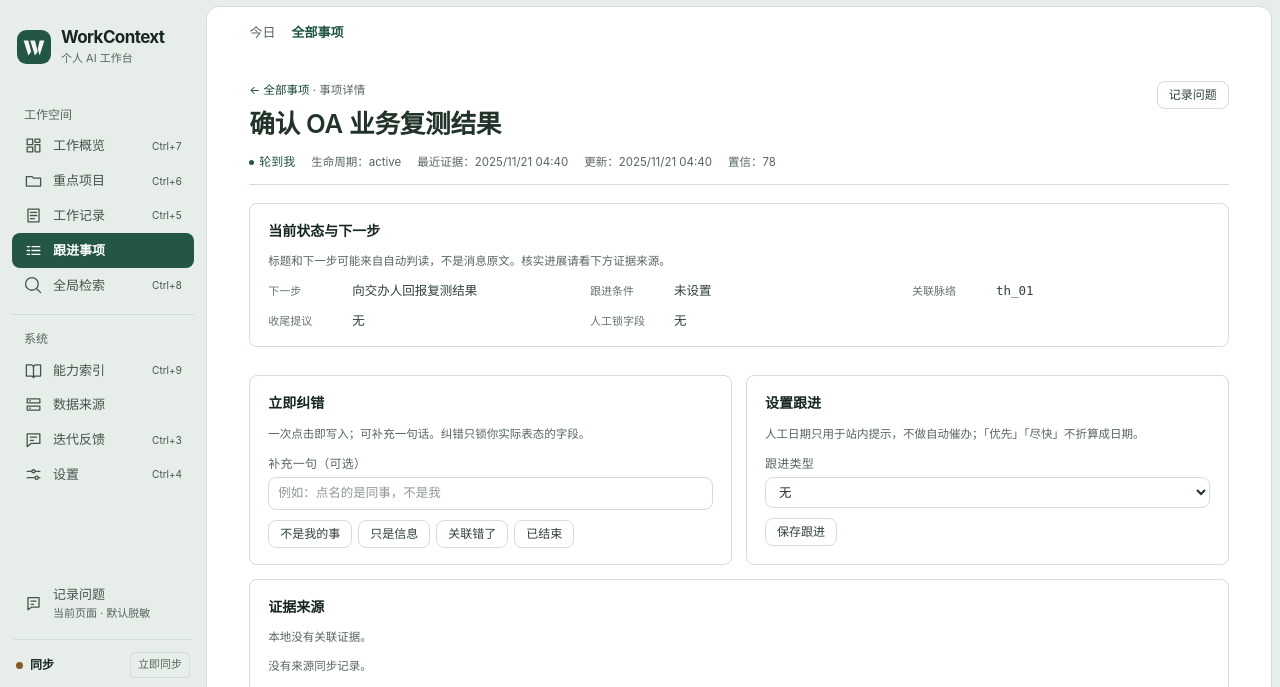
it: 事项详情 / 纠错 / 收尾 / 跟进 › 人工跟进日期转成 UTC 毫秒；事件类型缺说明时不发请求
Check: the heading "确认 OA 业务复测结果" is shown, box left=249, top=106, right=501, bottom=141
Select "人工时间" in the dropdown labelled "跟进类型". click: (987, 492)
box: left=765, top=477, right=1210, bottom=508
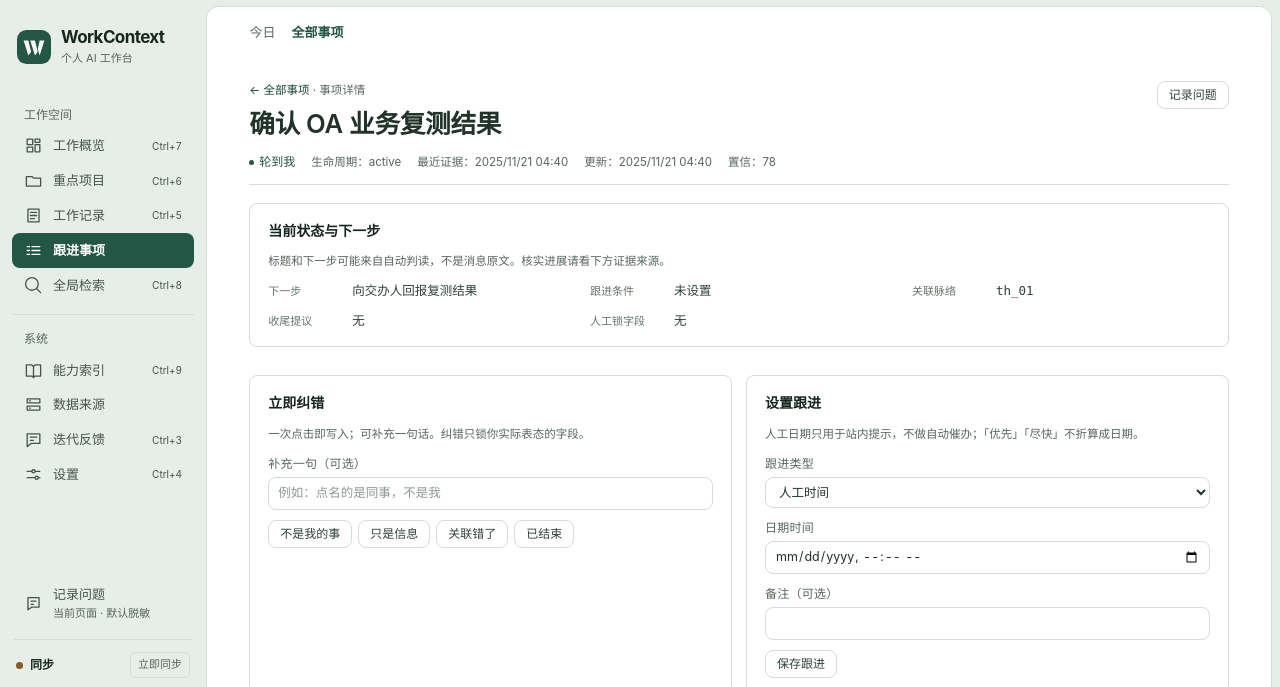
Type "2026-11-25T09:30" into the field labelled "日期时间". click: (987, 558)
box: left=765, top=541, right=1210, bottom=574
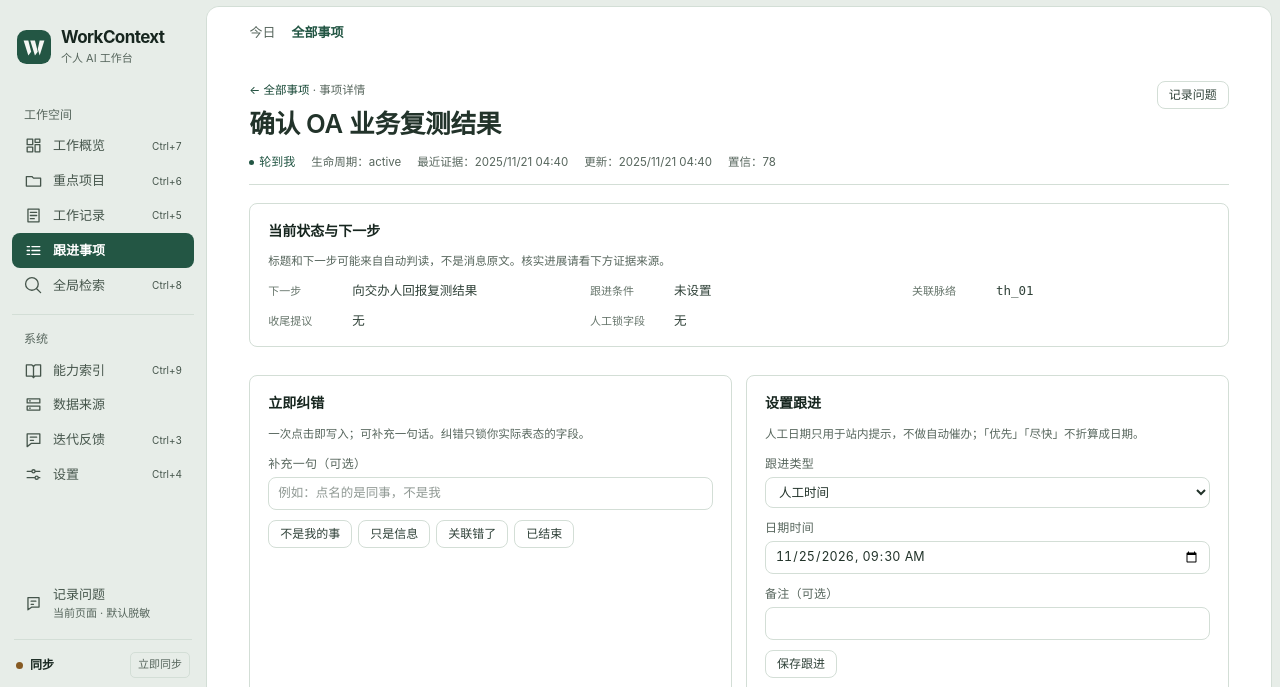
Click the button "保存跟进". click: (801, 664)
box: left=765, top=650, right=837, bottom=678
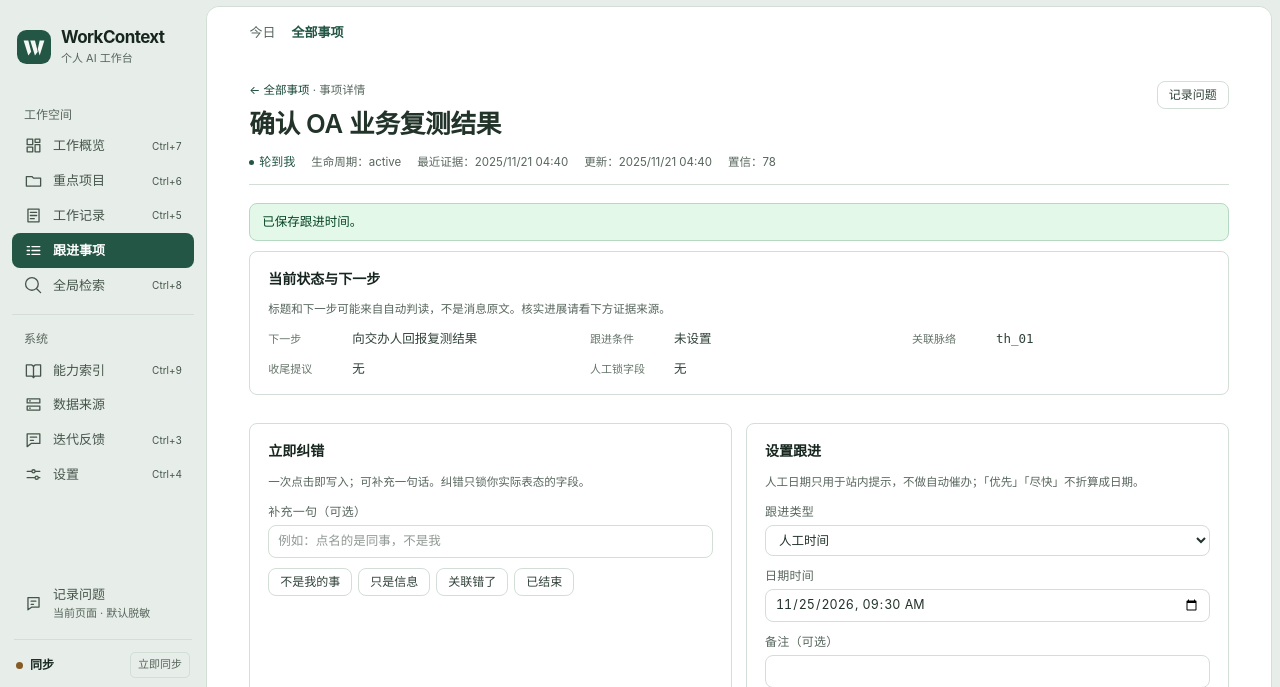
Select "等事件" in the dropdown labelled "跟进类型". click: (987, 540)
box: left=765, top=525, right=1210, bottom=556
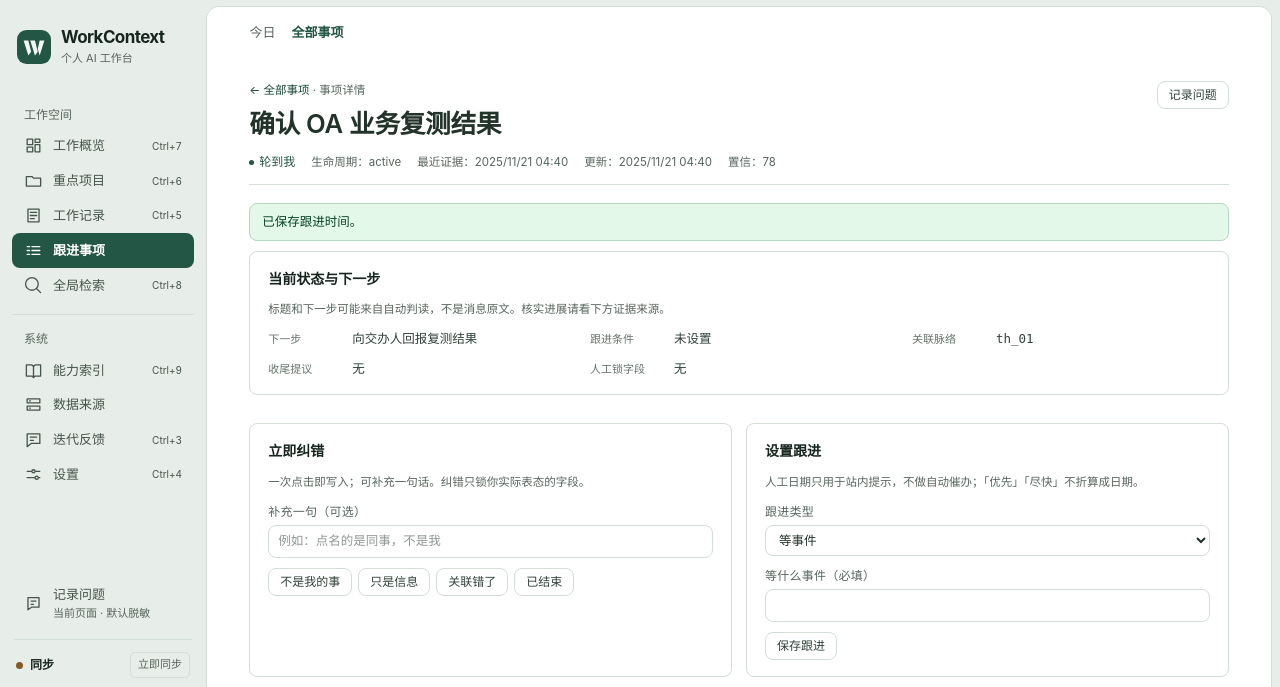
Click the button "保存跟进". click: (801, 646)
box: left=765, top=632, right=837, bottom=660
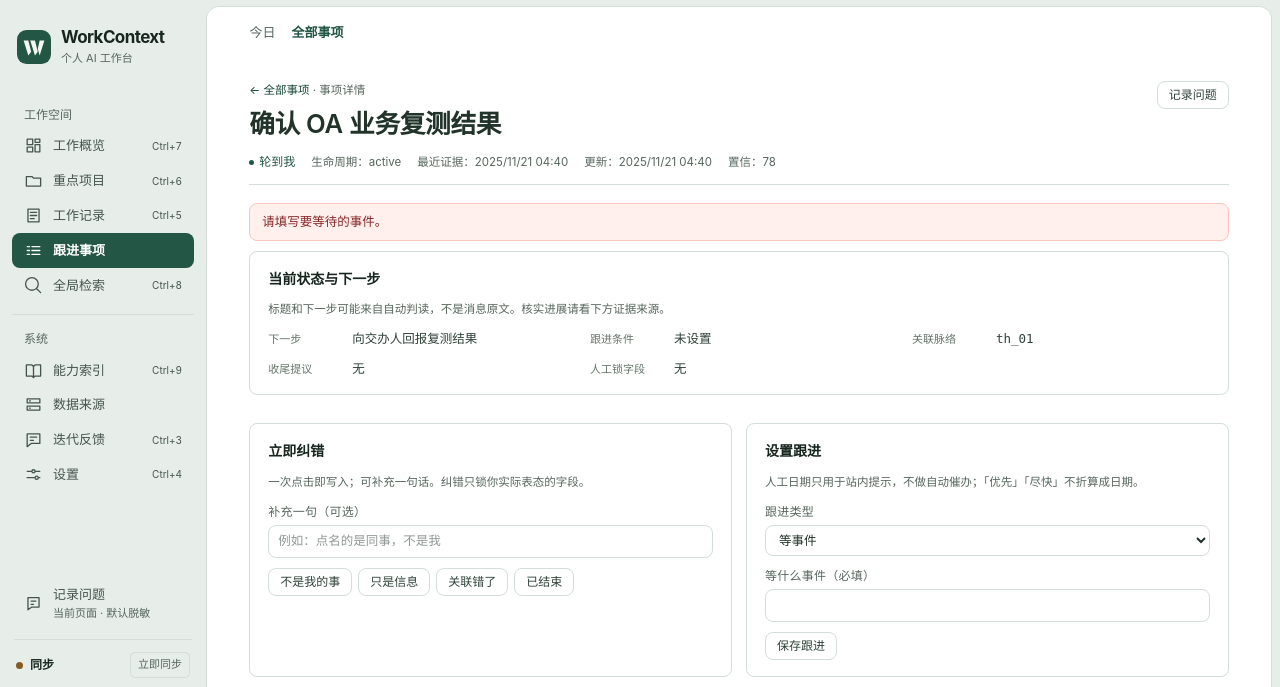
Check: the text "请填写要等待的事件。" is shown, box left=249, top=203, right=1229, bottom=241
